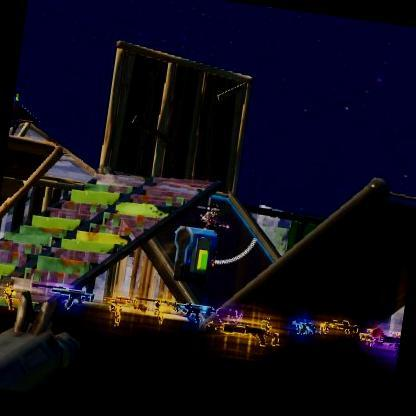person: (202, 206, 230, 270)
